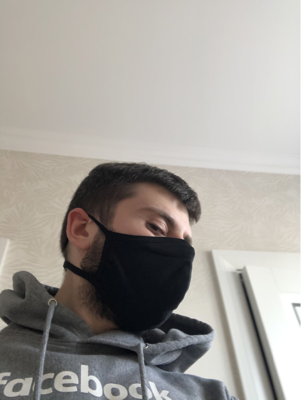with_mask: (102, 200, 194, 333)
